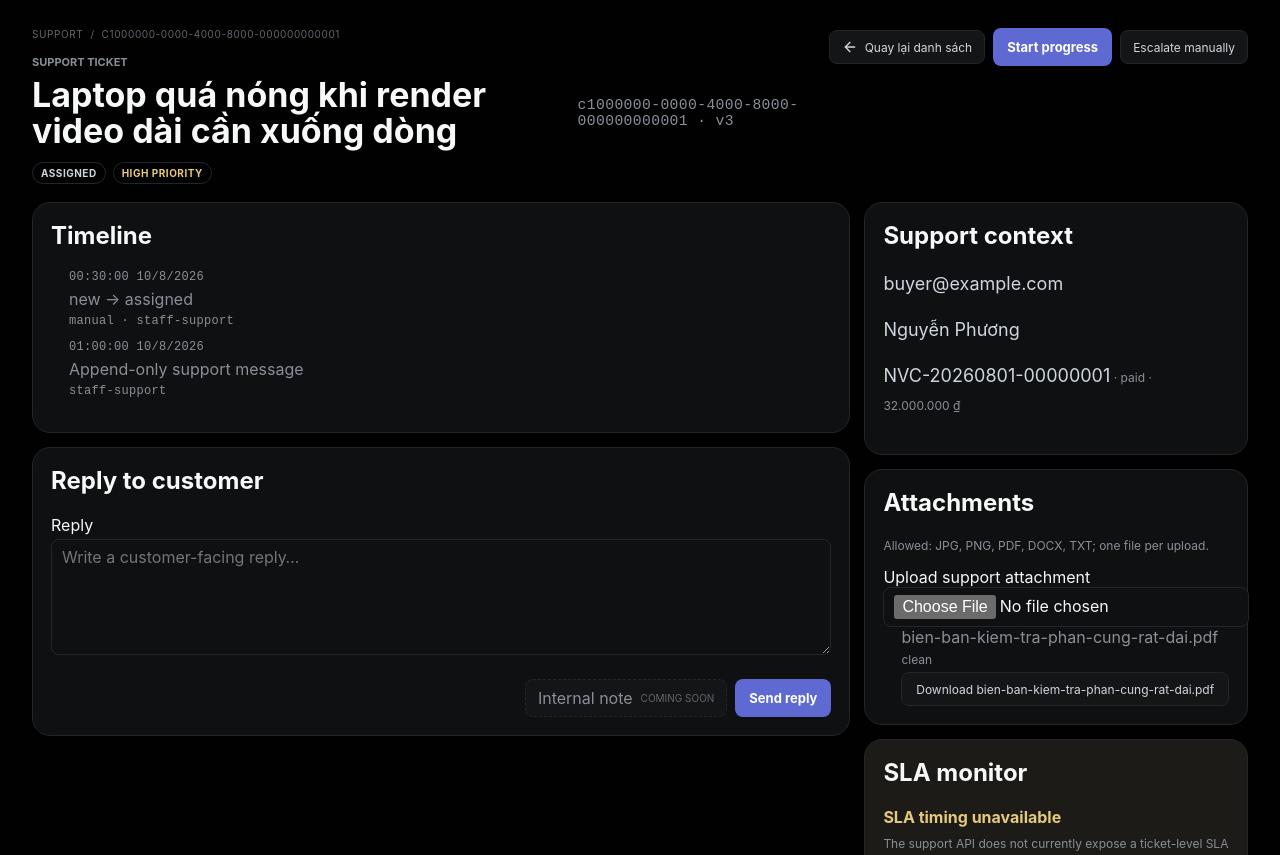
Test: TicketDetailPage › sends a trimmed customer reply and appends the authoritative message
This screenshot has width=1280, height=855.
Type "  Customer update  " into the text box labelled "Reply". click: (441, 597)
box: [51, 539, 831, 655]
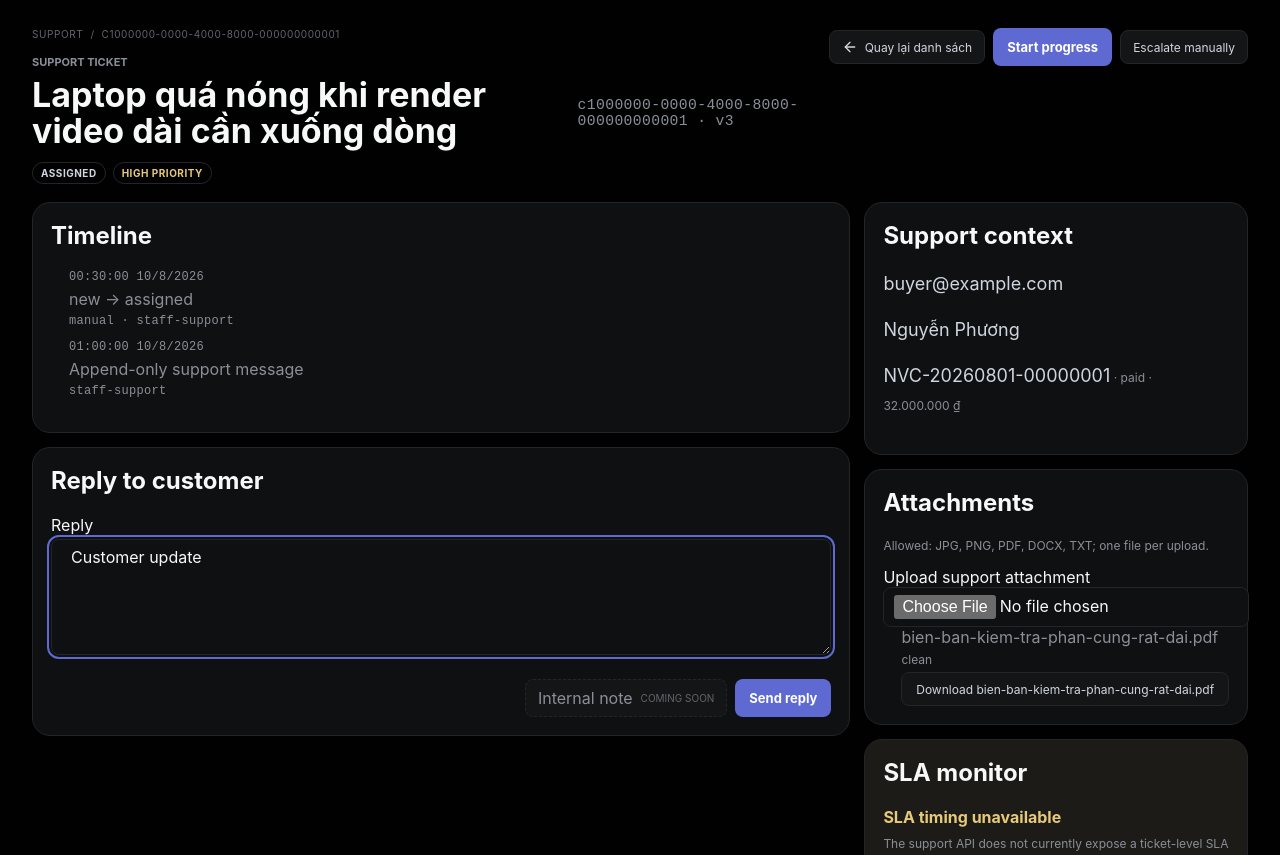
Click the button "Send reply". click: (783, 698)
box: [735, 679, 831, 717]
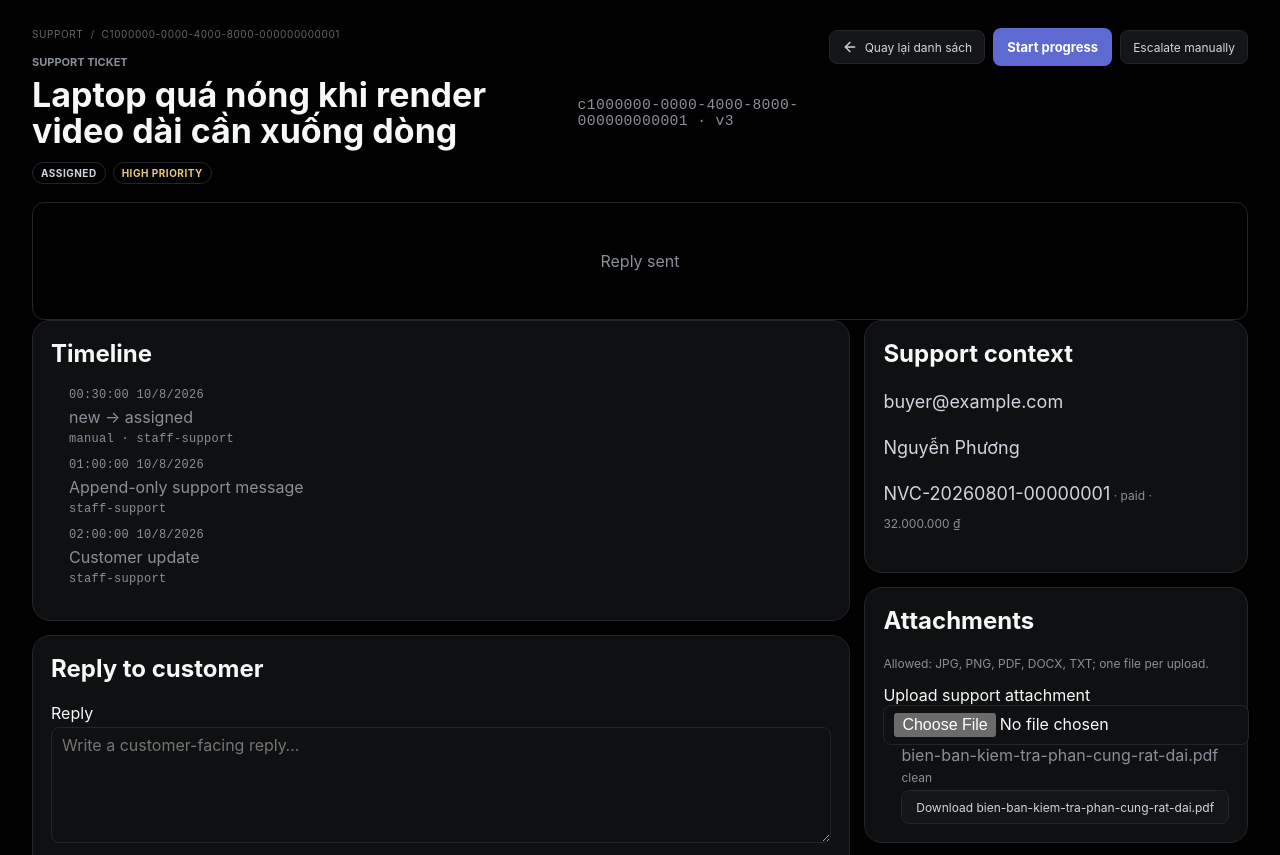
Expected: the text "Customer update" is shown, [69, 547, 200, 567]
